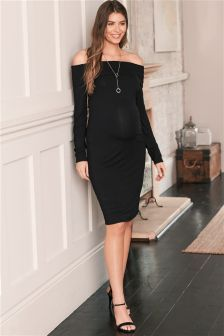S_dress: (69, 47, 162, 230)
